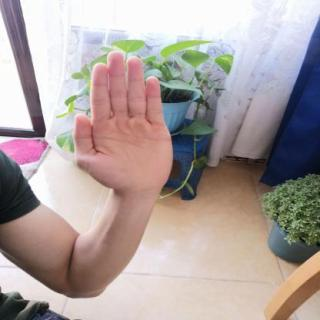SEEN: (64, 44, 184, 200)
